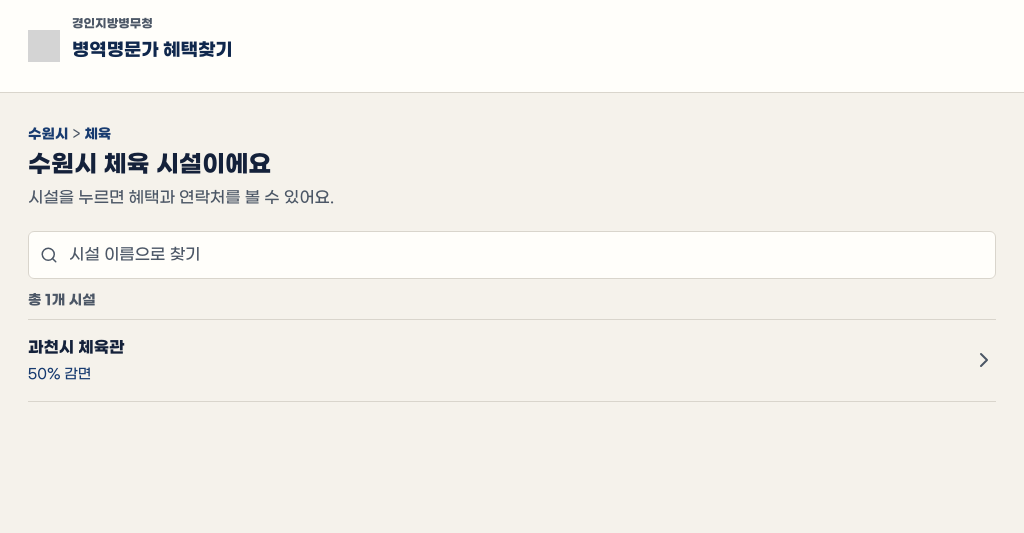
Test: FacilityListPage › 검색 결과가 없으면 '찾는 시설이 없어요' 상태를 표시한다 (AC-007)
The image size is (1024, 533).
In the search field: (512, 255) [28,231,996,279], type "존재하지않는시설"
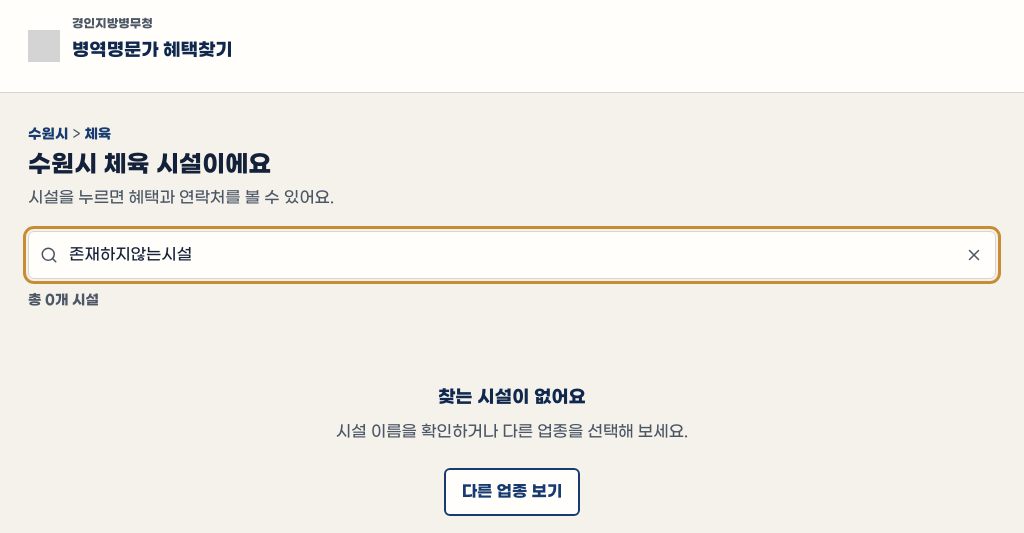
Expected: the heading "찾는 시설이 없어요" is shown, [438,386,586,408]
